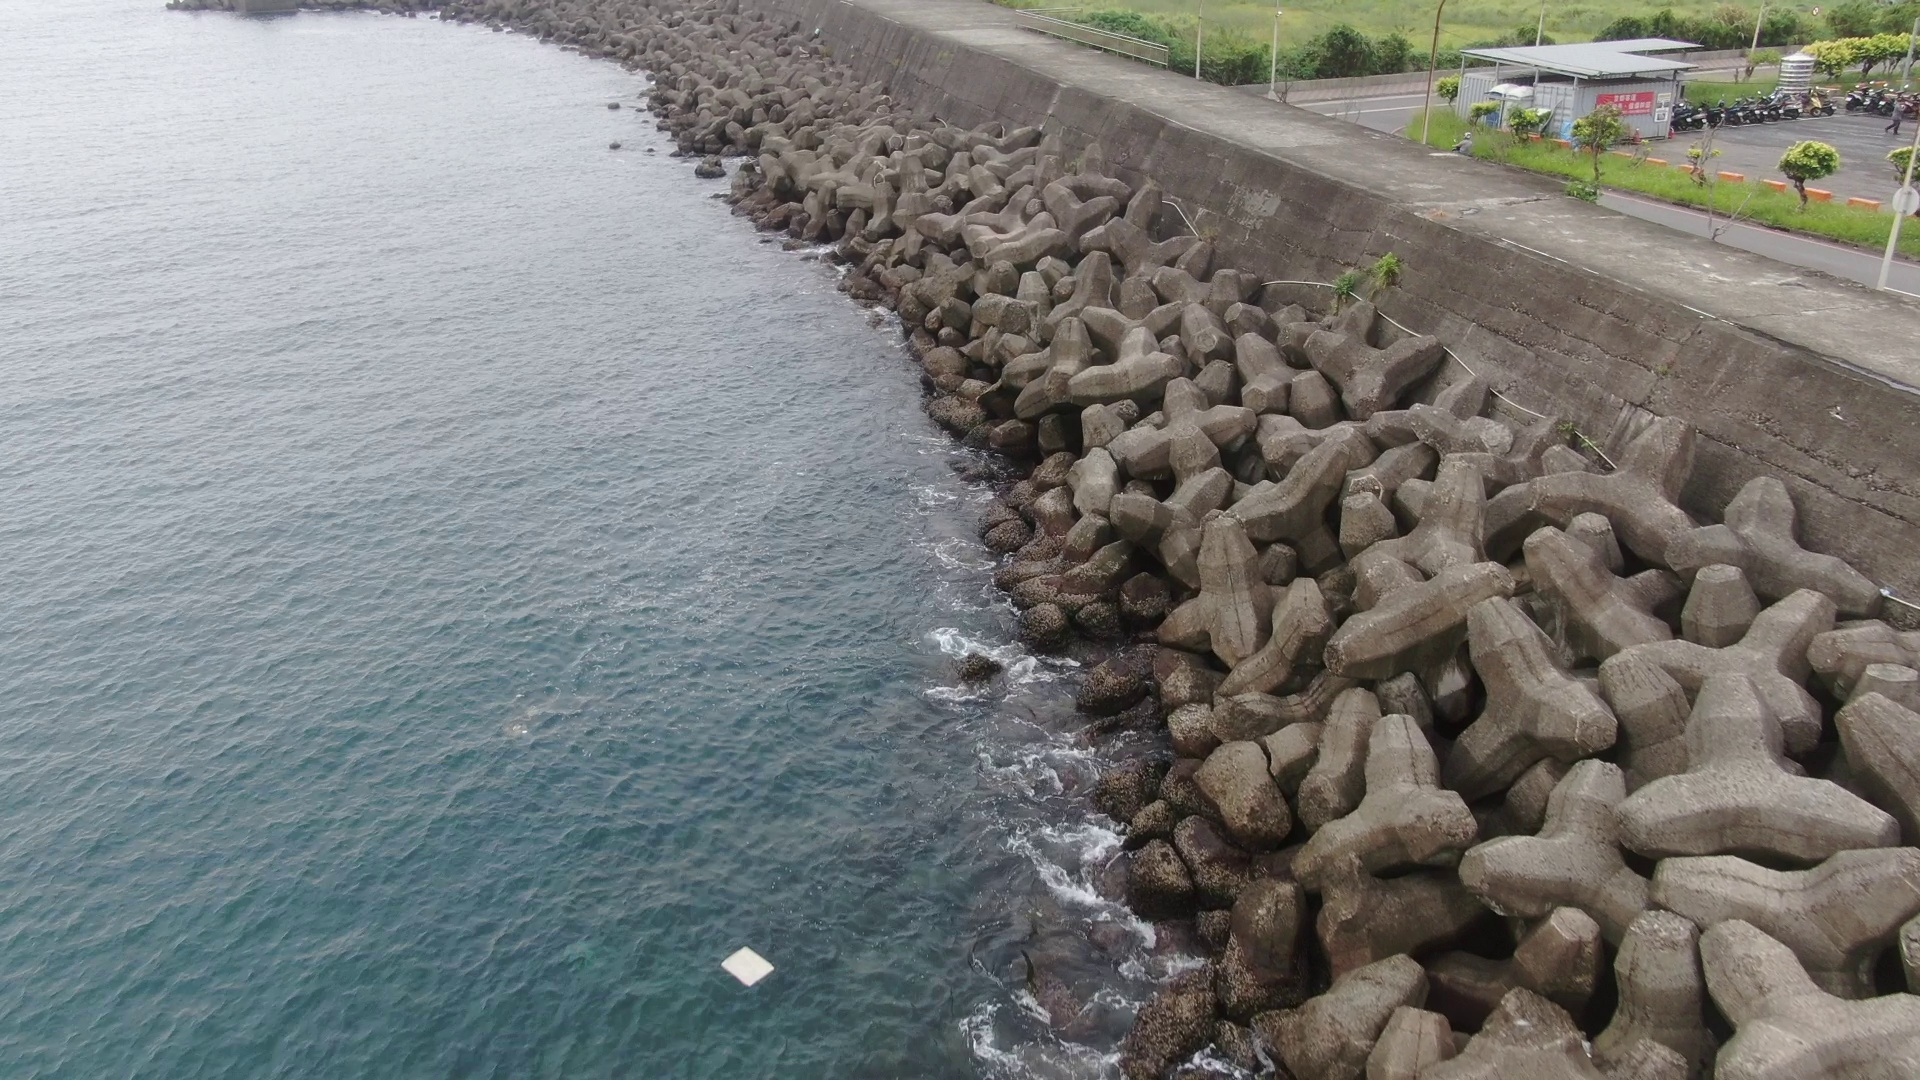garbage: (713, 936, 787, 994)
